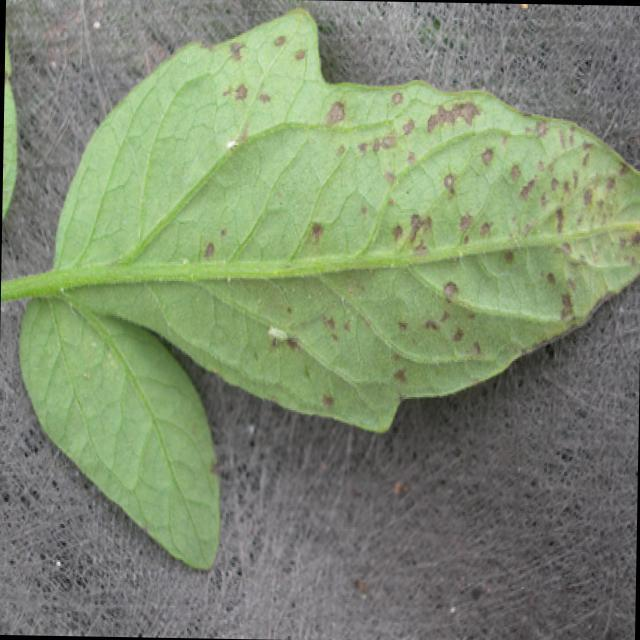Bacterial Spot: (215, 78, 544, 352)
Healthy Leaf: (18, 299, 215, 567)
